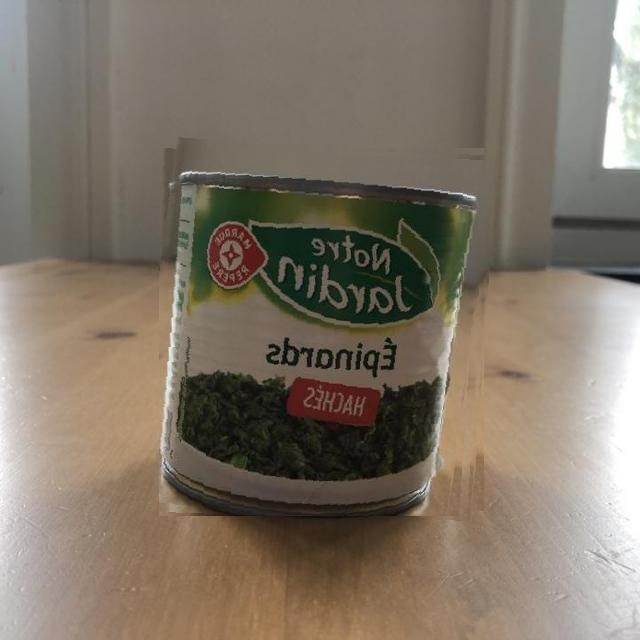recyclable: (159, 143, 492, 516)
